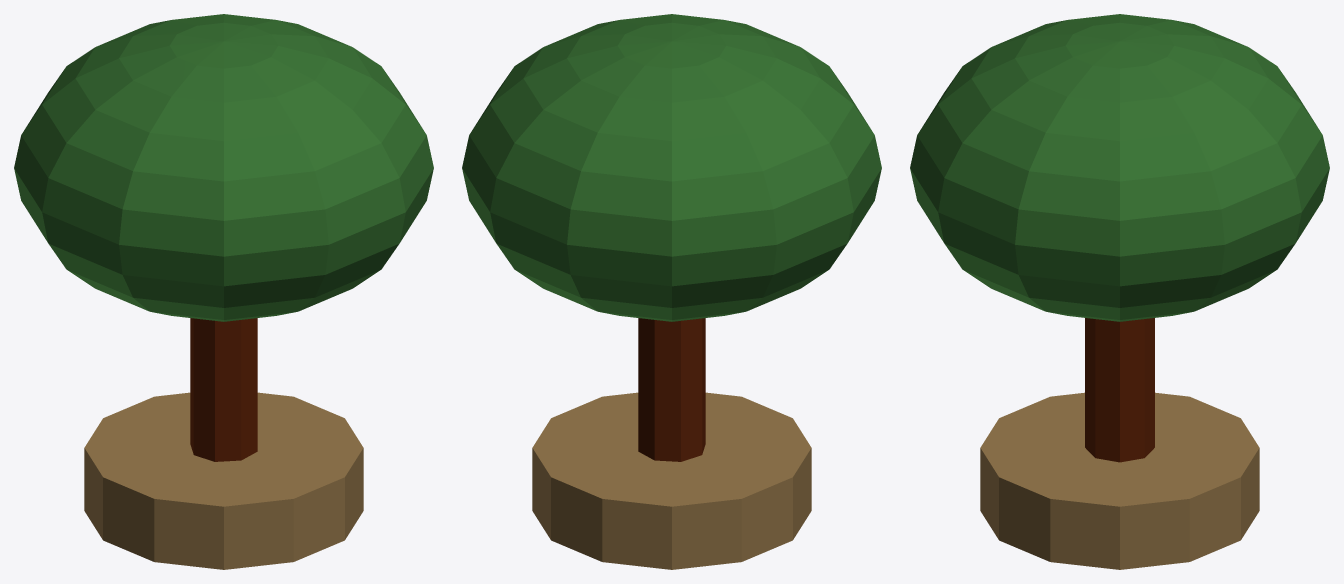
Rendered from trianglevegetation.obj.
The picture shows the model from 3 angles, left to right: view 1: azimuth 30°, elevation 25°; view 2: azimuth 150°, elevation 25°; view 3: azimuth 270°, elevation 25°; orthographic projection.
Visible parts, largest first — view 1: Sphere, ground, Cylinder; view 2: Sphere, ground, Cylinder; view 3: Sphere, ground, Cylinder.
Boxes of the visible parts, x1,y1,x2,y2 form: Sphere: (14, 14, 433, 321); ground: (84, 392, 363, 569); Cylinder: (190, 318, 257, 461); Sphere: (462, 14, 881, 321); ground: (532, 392, 811, 569); Cylinder: (638, 318, 705, 461); Sphere: (910, 14, 1329, 321); ground: (980, 392, 1259, 569); Cylinder: (1085, 318, 1154, 462).
Bounding box in the file's own units: 3.01 × 3.71 × 3.01.
